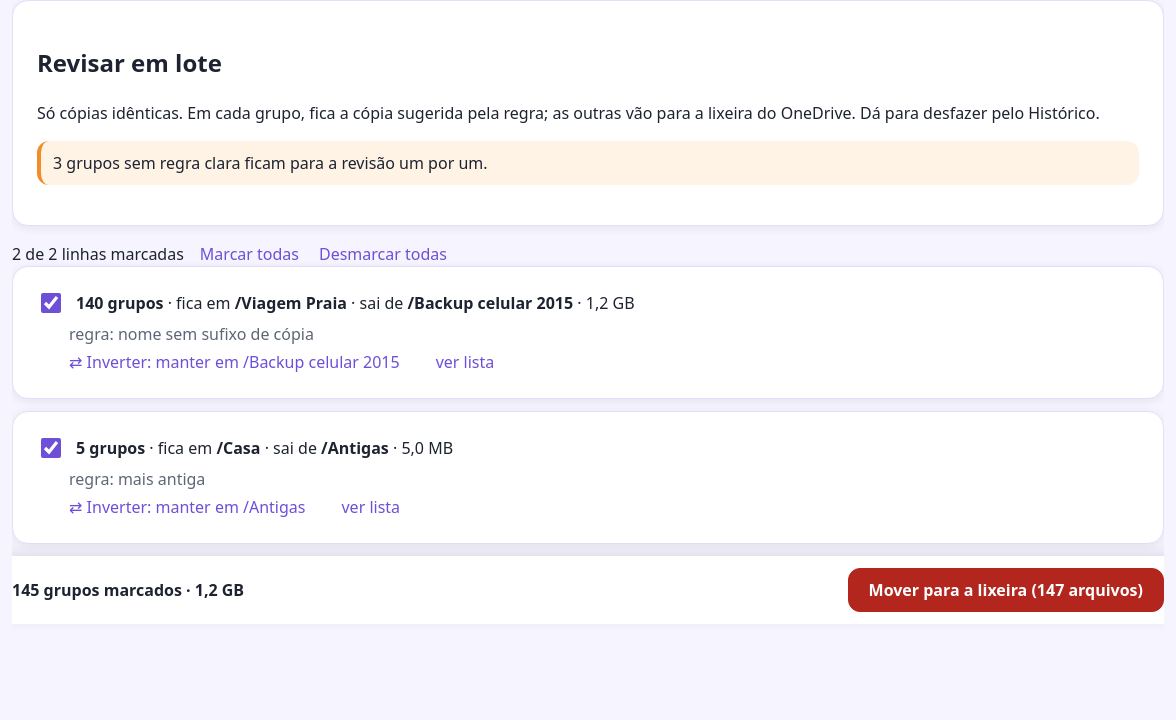
Scenario: desmarcar uma linha atualiza o total e desabilita com zero
Check: the text "140 grupos" is shown, box x1=76 y1=292 x2=164 y2=314
Step 1. Click the 1st checkbox → (51, 303), box x1=41 y1=293 x2=61 y2=313
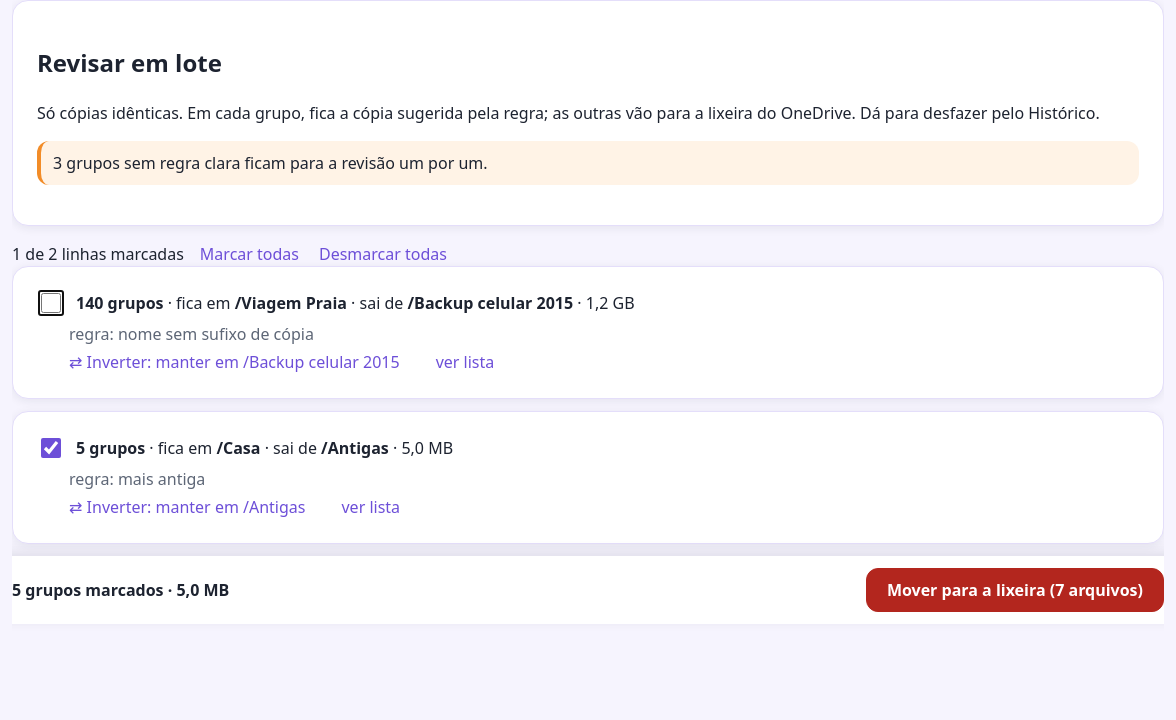
Check: the button "Mover para a lixeira (7 arquivos)" is enabled, box x1=866 y1=568 x2=1164 y2=612
Step 2. Click the checkbox labelled "5 grupos · fica em /Casa · sai de /Antigas · 5,0 MB" → (51, 448), box x1=41 y1=438 x2=61 y2=458
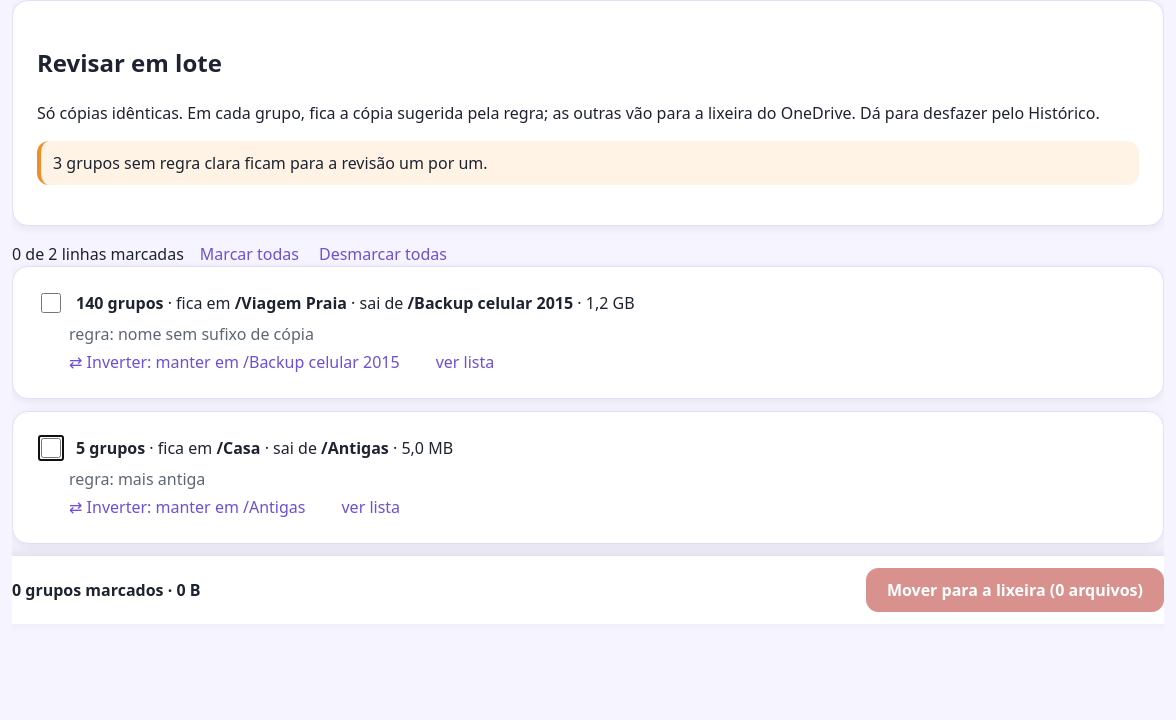
Check: the button "Mover para a lixeira (0 arquivos)" is disabled, box x1=866 y1=568 x2=1164 y2=612
